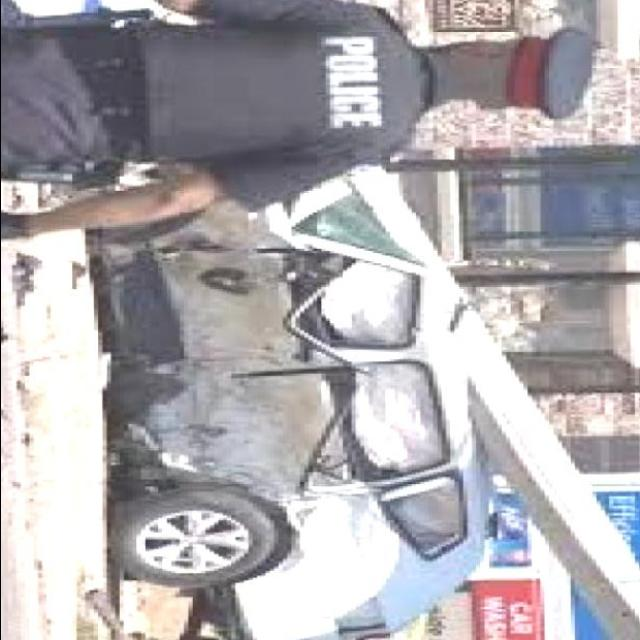accident: (80, 157, 484, 640)
